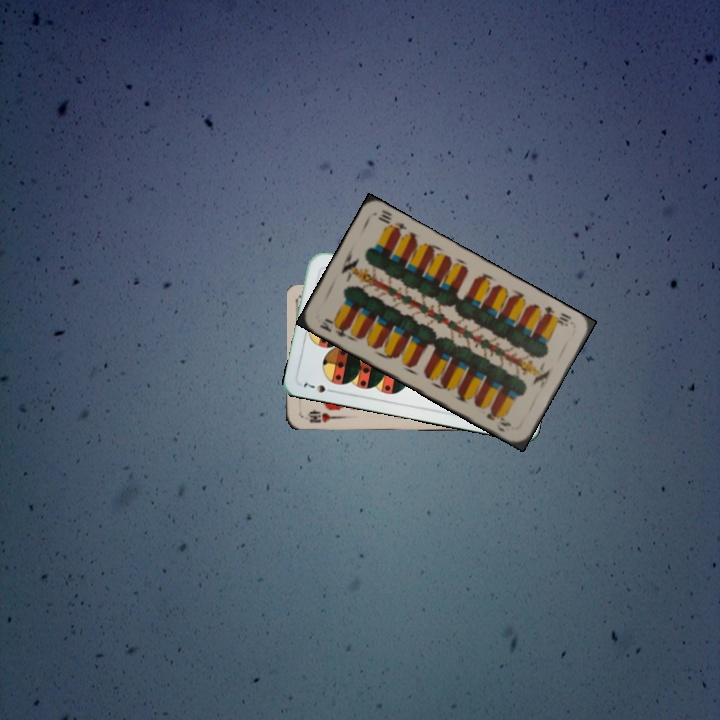E10: (316, 314, 352, 341), (539, 302, 574, 329)
H10: (304, 407, 340, 425)
S7: (299, 379, 338, 395)
